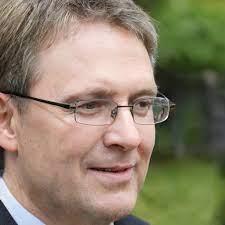Persons: (0, 0, 175, 223)
